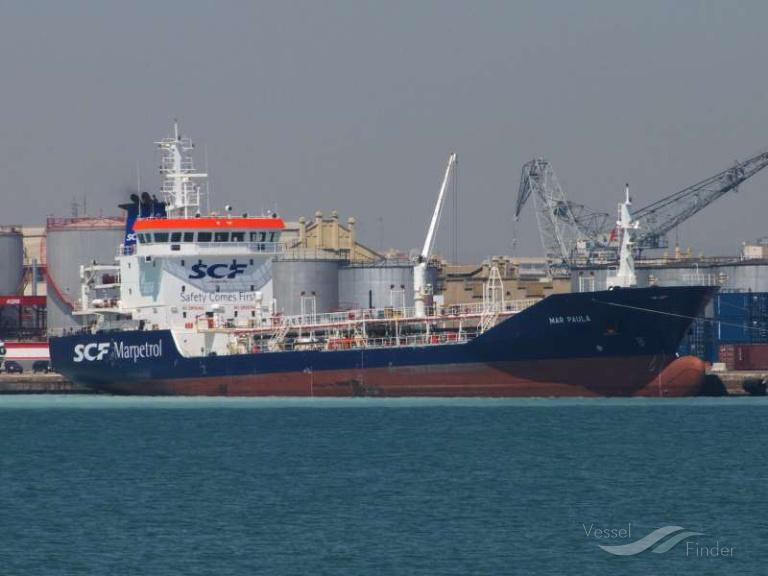OCR: (65, 334, 164, 366), (187, 254, 250, 284), (540, 306, 596, 324)
